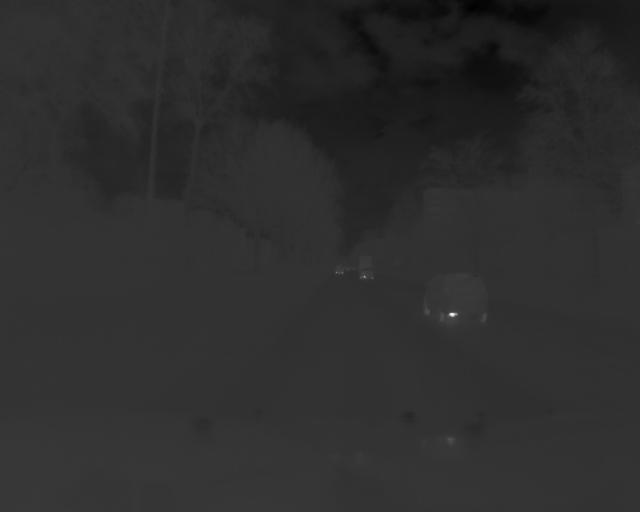car: (422, 270, 490, 323)
